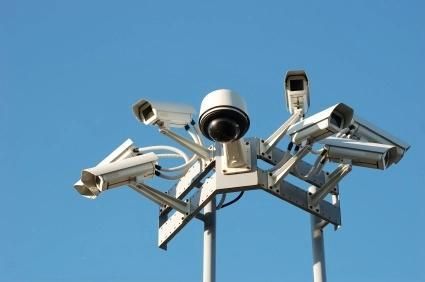camera: (269, 96, 413, 174), (59, 119, 162, 218), (114, 72, 199, 136), (191, 81, 259, 146), (277, 61, 316, 113)
